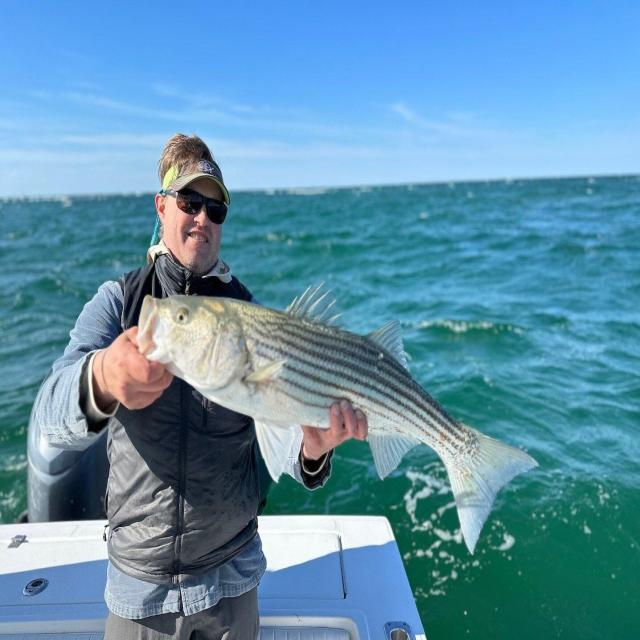Bass - Striped: (137, 286, 537, 552)
